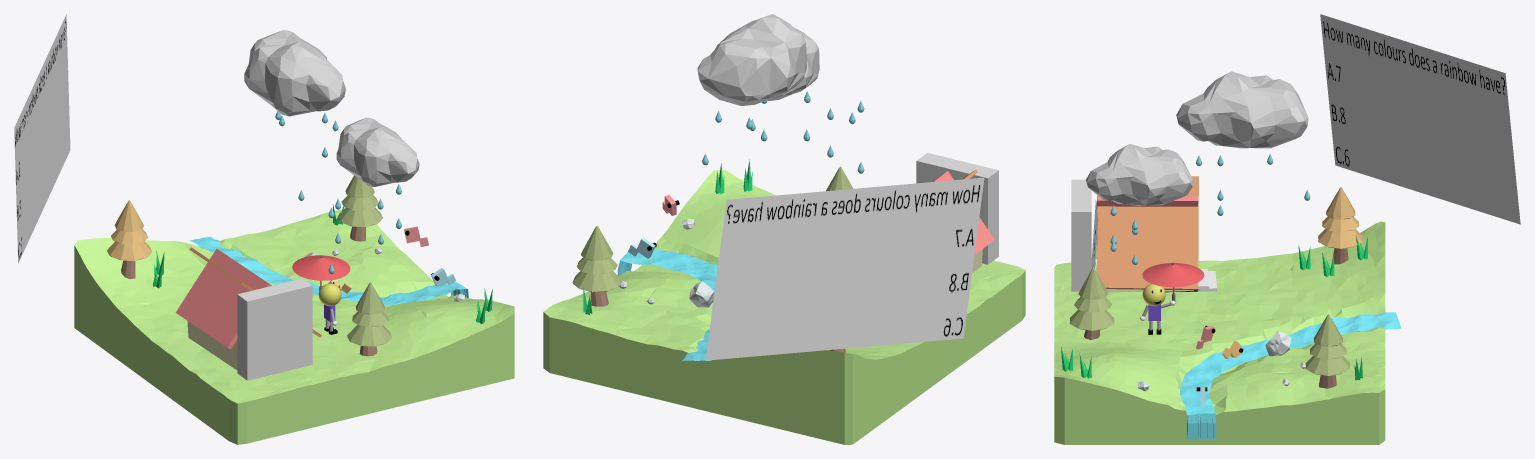
The model's file is rainQ4.glb.
3 renders of one model, left to right at view 1: azimuth 30°, elevation 25°; view 2: azimuth 150°, elevation 25°; view 3: azimuth 270°, elevation 25°, orthographic. The views are drawn at different scales.
Parts seen in each view (by area): view 1: terrain, pPlane2, Cube, cloud, house:pCube6, clouds:pPlatonic1, water, umbrella:Mesh, house:pCube4, pCylinder1, trees:pCylinder8, trees:pCylinder1 (+2 smaller); view 2: terrain, pPlane2, cloud, Cube, water, clouds:pPlatonic1, trees:pCylinder1, trees:pCylinder4, trees:pCylinder3, stone:pPlatonic2, house:pCube6; view 3: terrain, pPlane2, cloud, house:pCube5, clouds:pPlatonic1, water, Cube, umbrella:Mesh, pCylinder1, trees:pCylinder8, trees:pCylinder1, trees:pCylinder7 (+7 smaller).
Boxes of the visible parts, x1,y1,x2,y2 form: terrain: (74, 209, 514, 444); pPlane2: (14, 14, 70, 263); Cube: (237, 278, 312, 380); cloud: (244, 30, 345, 116); house:pCube6: (175, 248, 271, 349); clouds:pPlatonic1: (336, 117, 419, 186); water: (189, 236, 468, 306); umbrella:Mesh: (292, 255, 350, 286); house:pCube4: (187, 321, 237, 369); pCylinder1: (347, 324, 392, 346); trees:pCylinder8: (107, 241, 152, 260); trees:pCylinder1: (338, 207, 382, 226); terrain: (543, 169, 1025, 444); pPlane2: (705, 177, 984, 360); cloud: (697, 14, 806, 105); Cube: (916, 153, 998, 264); water: (617, 249, 717, 360); clouds:pPlatonic1: (767, 27, 819, 100); trees:pCylinder1: (572, 271, 622, 292); trees:pCylinder4: (581, 226, 613, 260); trees:pCylinder3: (576, 257, 617, 274); stone:pPlatonic2: (689, 281, 714, 307); house:pCube6: (933, 171, 994, 255); terrain: (1054, 221, 1385, 444); pPlane2: (1320, 14, 1520, 224); cloud: (1176, 71, 1308, 148); house:pCube5: (1097, 176, 1198, 290); clouds:pPlatonic1: (1086, 144, 1192, 205); water: (1180, 312, 1400, 440); Cube: (1071, 179, 1091, 291); umbrella:Mesh: (1142, 263, 1204, 294); pCylinder1: (1069, 310, 1114, 330); trees:pCylinder8: (1318, 228, 1362, 248); trees:pCylinder1: (1305, 356, 1350, 375); trees:pCylinder7: (1326, 187, 1355, 219).
Bounding box in the file's own units: 0.4613 × 0.3485 × 0.4738.
30 materials, 3 textured.
